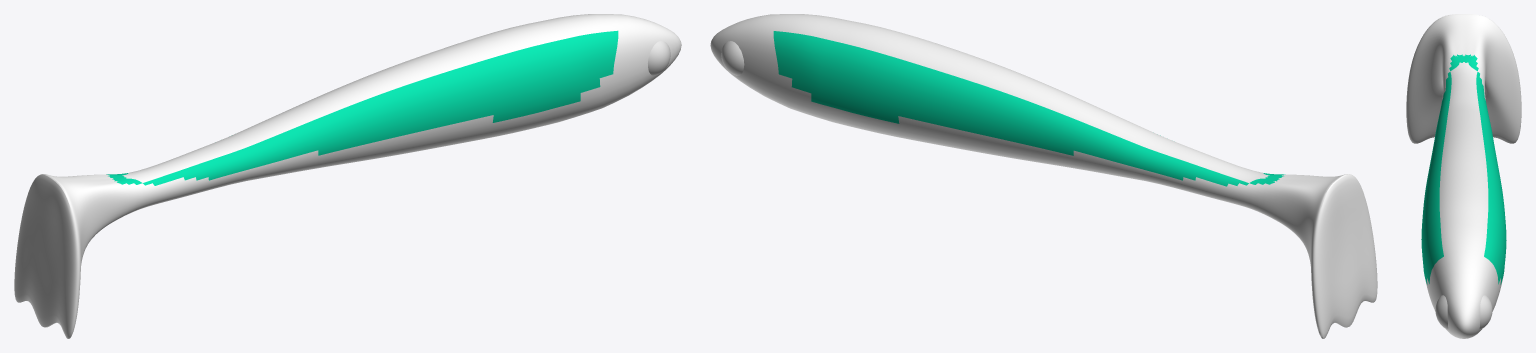
The picture shows the model from 3 angles, left to right: view 1: azimuth 30°, elevation 25°; view 2: azimuth 150°, elevation 25°; view 3: azimuth 270°, elevation 25°; orthographic projection. The views are drawn at different scales.
Visible parts, largest first — view 1: Cube.003; view 2: Cube.003; view 3: Cube.003.
Boxes of the visible parts, <box> form: Cube.003: <box>14,14,681,338</box>; Cube.003: <box>710,14,1377,338</box>; Cube.003: <box>1406,14,1521,338</box>.
Size of the model in its own units: 3.11 by 0.8374 by 0.5012.
